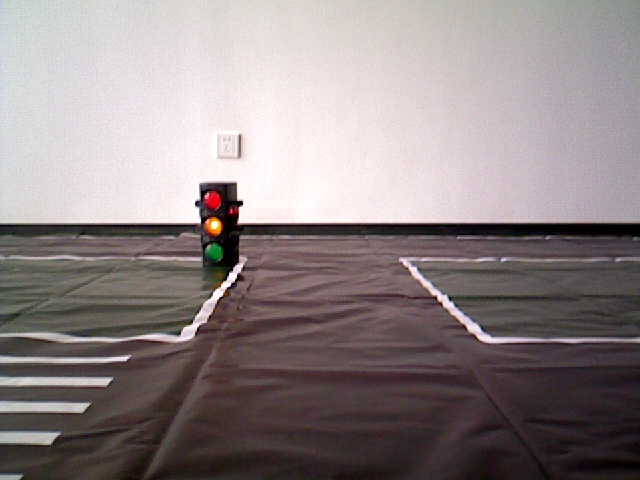yellow: (201, 185, 236, 273)
